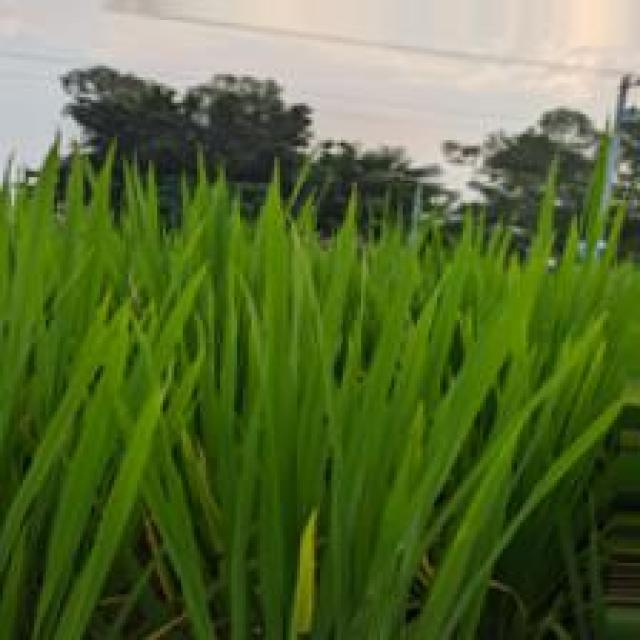HealthyLeaf: (10, 222, 69, 369), (269, 278, 319, 430)
